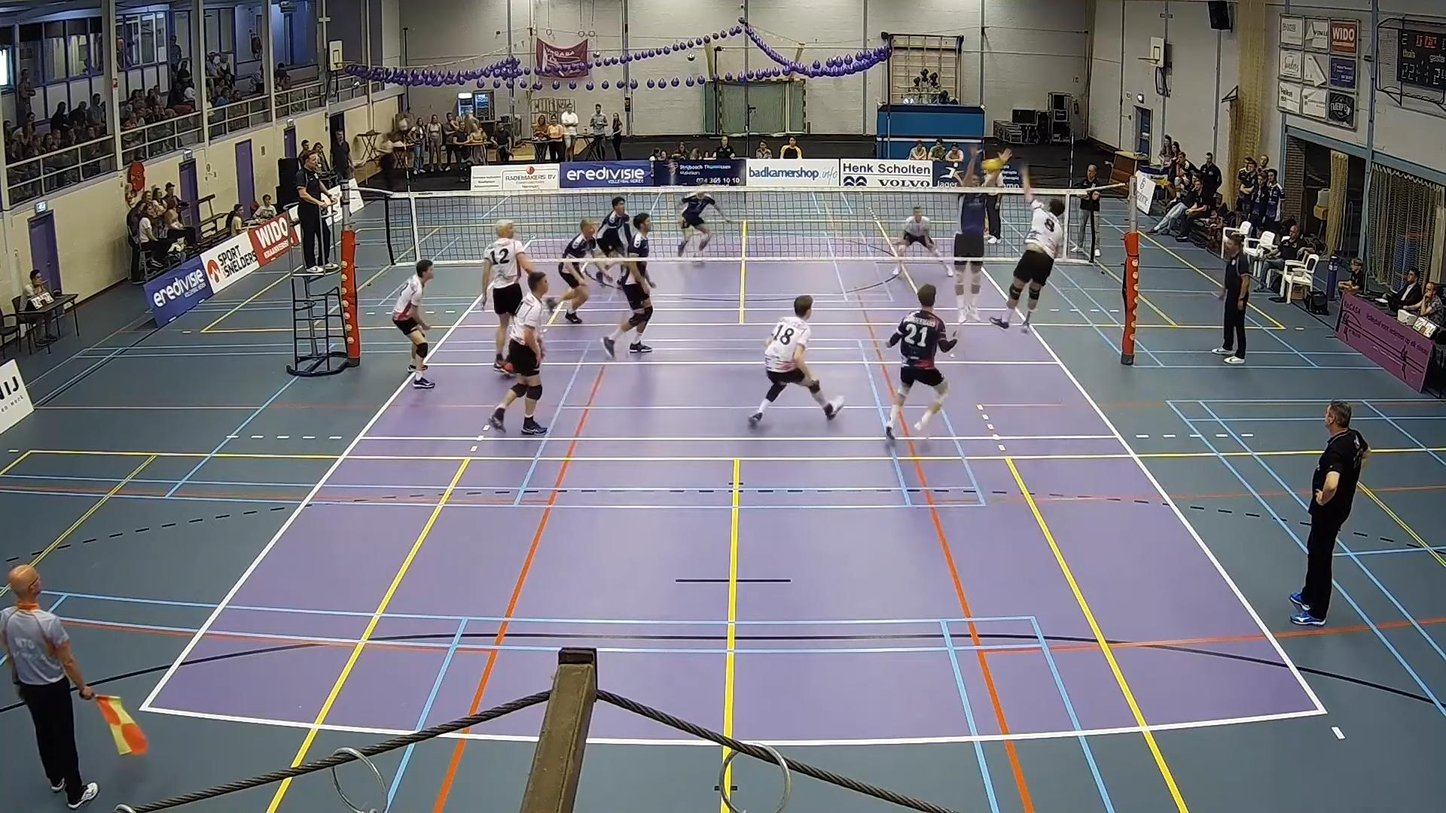Attack: (992, 168, 1072, 334)
Block: (946, 139, 1009, 335)
Player: (749, 296, 842, 425), (885, 284, 956, 440), (488, 271, 548, 434), (483, 220, 534, 372), (601, 213, 653, 357), (392, 260, 434, 388), (546, 220, 596, 324), (895, 207, 954, 276), (596, 196, 633, 284), (678, 190, 721, 257)
ball: (980, 161, 1005, 173)
